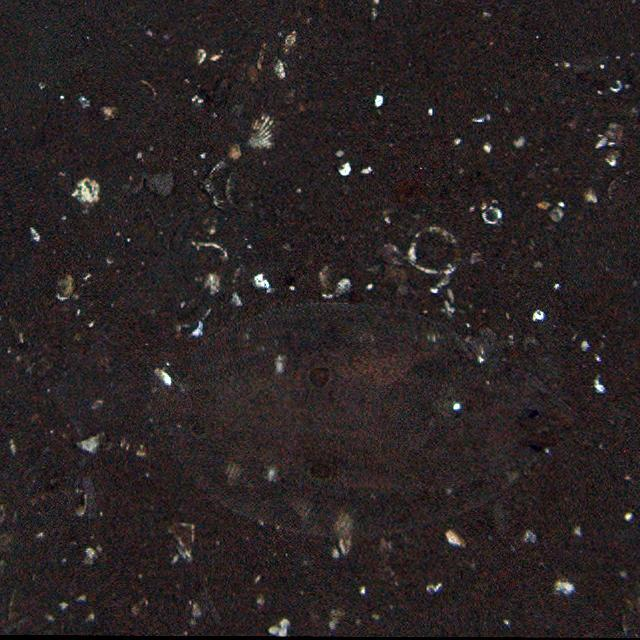flatfish: (58, 310, 558, 534)
